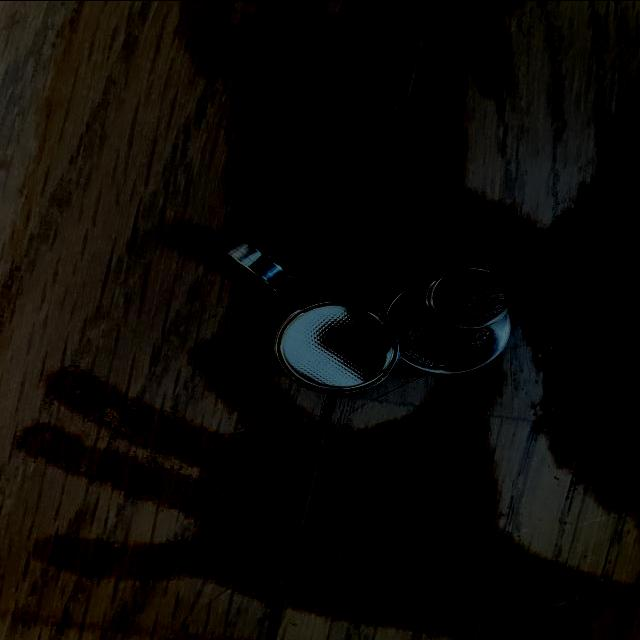COIN: (272, 296, 403, 398), (383, 273, 513, 375), (424, 264, 511, 329), (219, 234, 297, 290)
